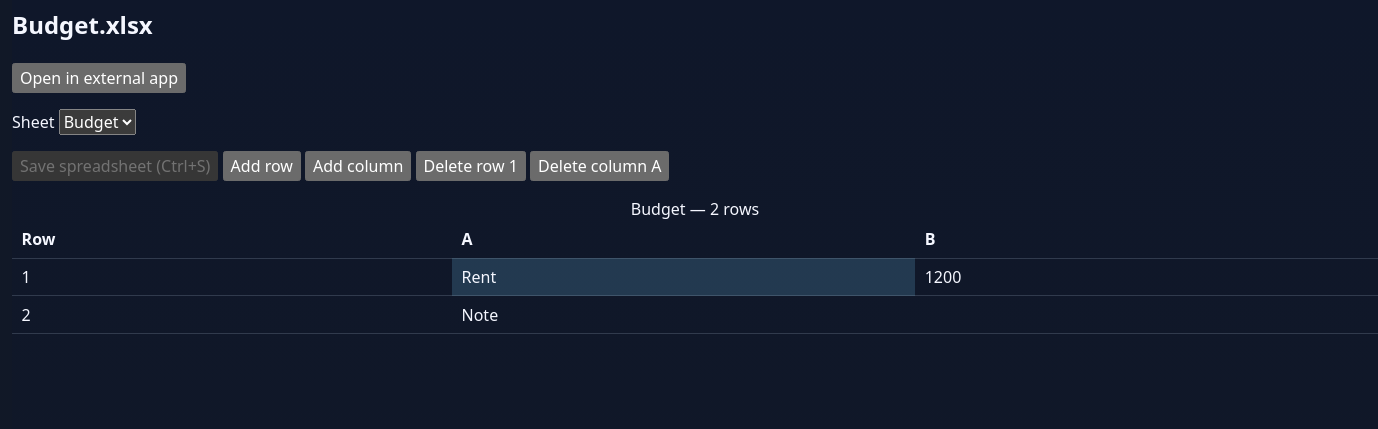
spreadsheet preview › adds and deletes rows
The width and height of the screenshot is (1378, 429).
Check: the cell named "Row 1, column A, Rent" is shown, box [452,258,915,296]
Click the button "Add row" at (262, 166), box [223,151,301,181]
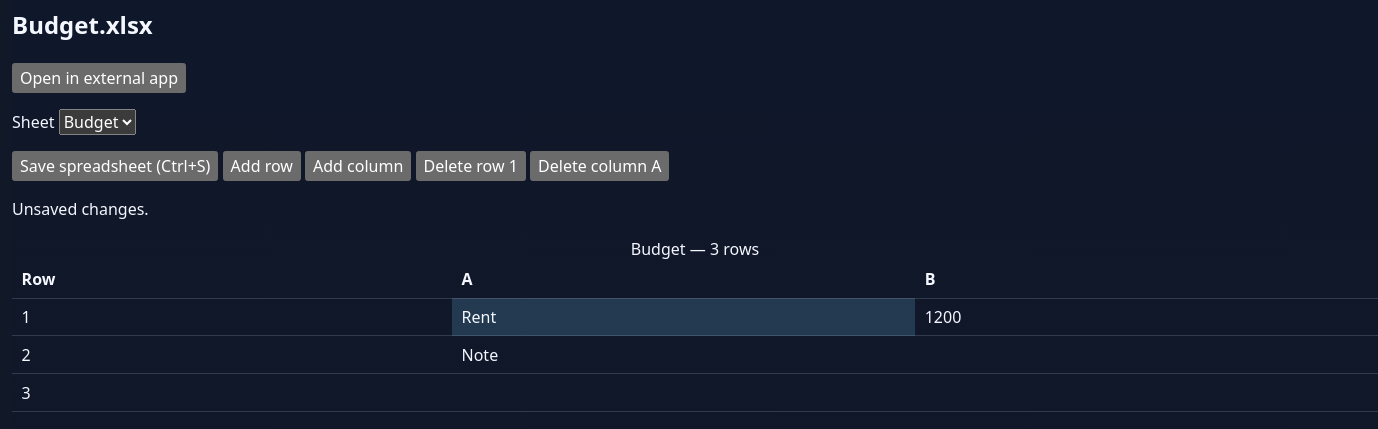
Check: the cell named "Row 3, column A, empty" is shown, box [452,374,915,412]
Click the button "Delete row 1" at (471, 166), box [416,151,526,181]
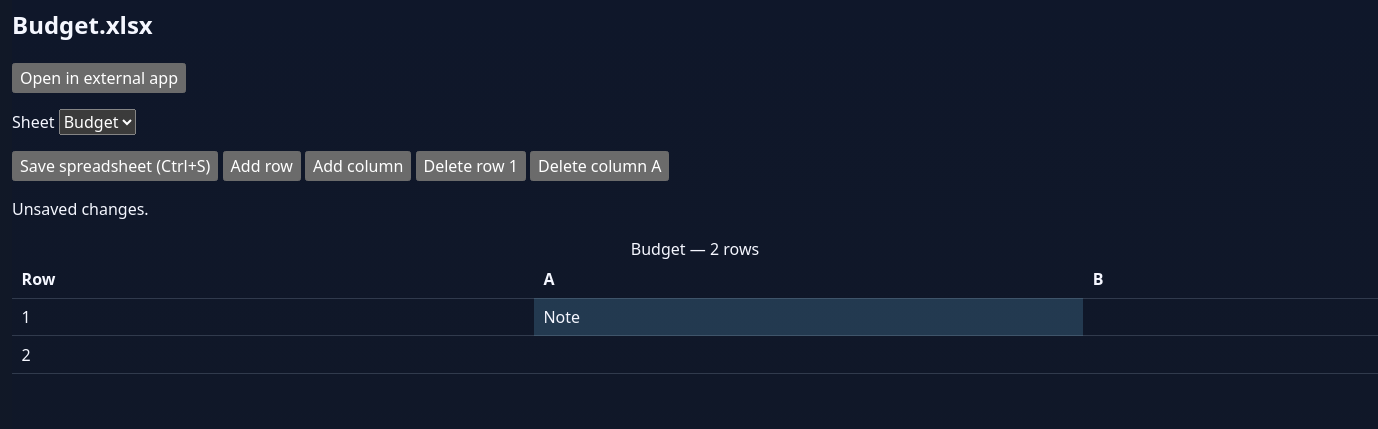
Check: the cell named "Row 1, column A, Note" is shown, box [534,298,1083,336]
